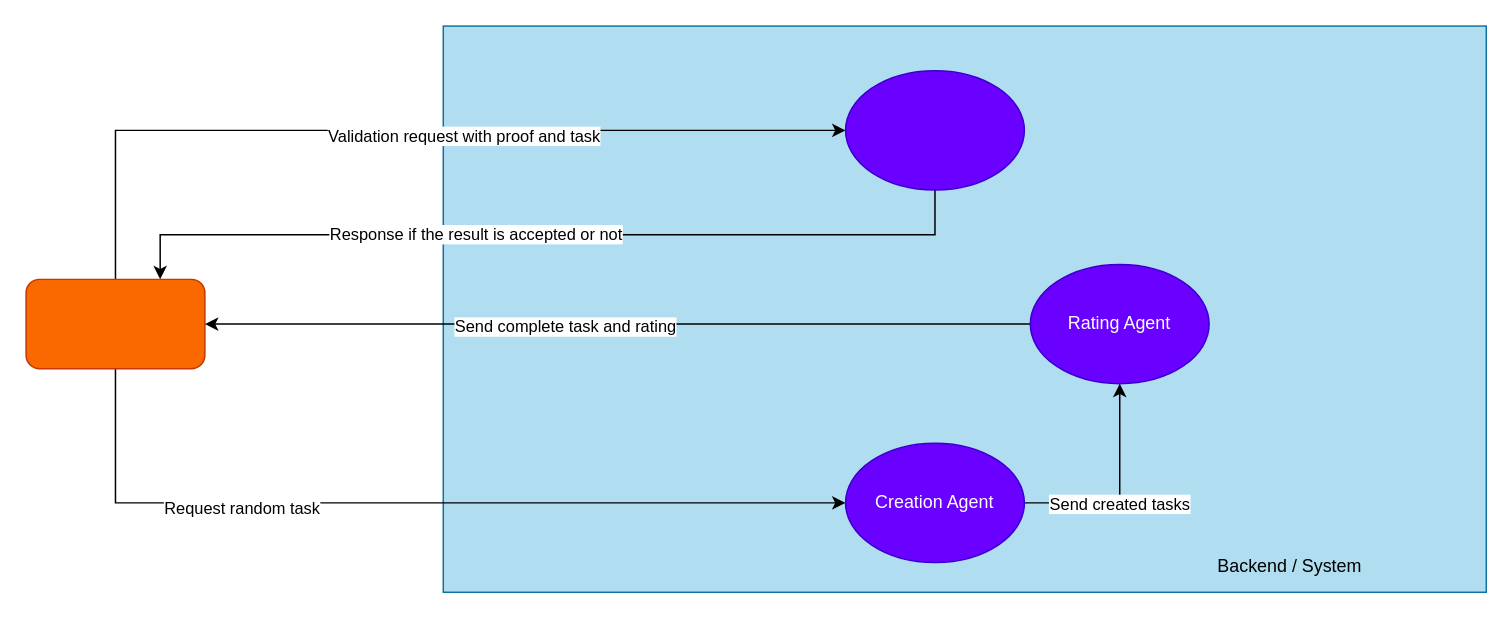
The diagram is 1512 pixels wide and 618 high, and some of its shapes have lost their labels. Here are the shapes that lost their labels. From the top down, the box of each, then its label:
(844, 69, 1024, 190): Validation Agent
(25, 278, 205, 369): Client (Frontend)
